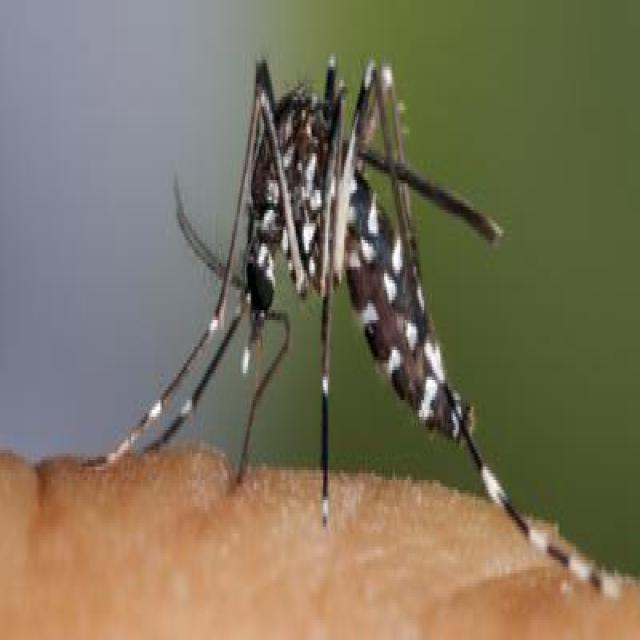antennae: (163, 169, 252, 298)
body: (249, 87, 471, 446)
insect: (84, 50, 622, 604)
legs: (86, 90, 269, 488), (412, 299, 618, 606), (304, 281, 362, 540)
mouthpart: (235, 291, 293, 508)
wings: (346, 121, 504, 251)
